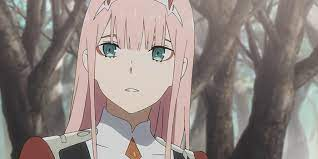zeroTwo: (75, 1, 197, 117)
